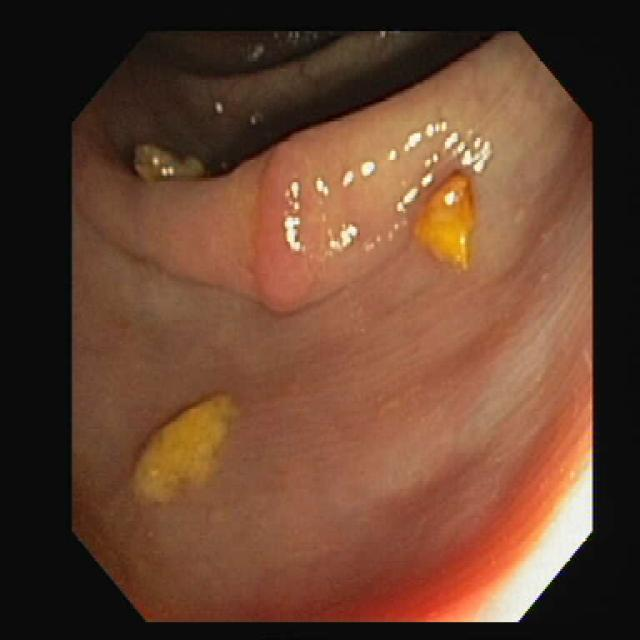tumor: (252, 131, 323, 309)
